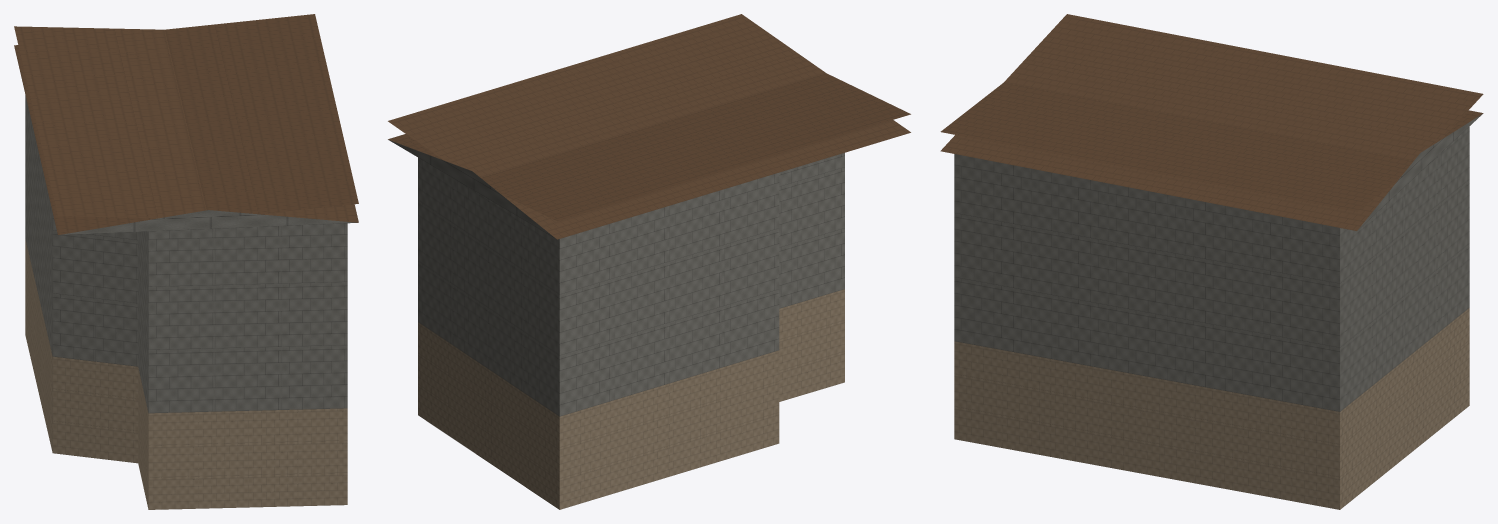
File: bld_c-17_20_500.gltf
3 renders of one model, left to right at view 1: azimuth 30°, elevation 25°; view 2: azimuth 150°, elevation 25°; view 3: azimuth 270°, elevation 25°, orthographic. The views are drawn at different scales.
Parts seen in each view (by area): view 1: bld_c-17_20_500; view 2: bld_c-17_20_500; view 3: bld_c-17_20_500.
Boxes of the visible parts, left/top/right/bottom form: bld_c-17_20_500: left=14, top=14, right=358, bottom=509; bld_c-17_20_500: left=388, top=14, right=910, bottom=509; bld_c-17_20_500: left=940, top=14, right=1483, bottom=509.
Bounding box in the file's own units: 22.09 × 16.1 × 25.63.
Materials: 4 (4 with a texture image).
